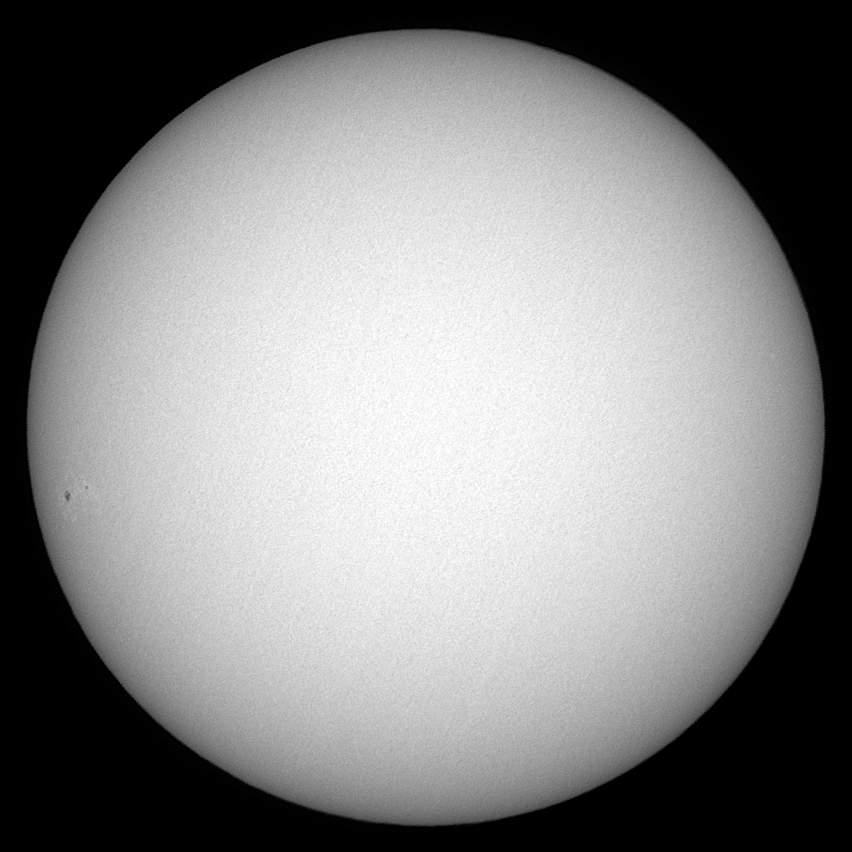sunspot: (61, 479, 93, 504)
